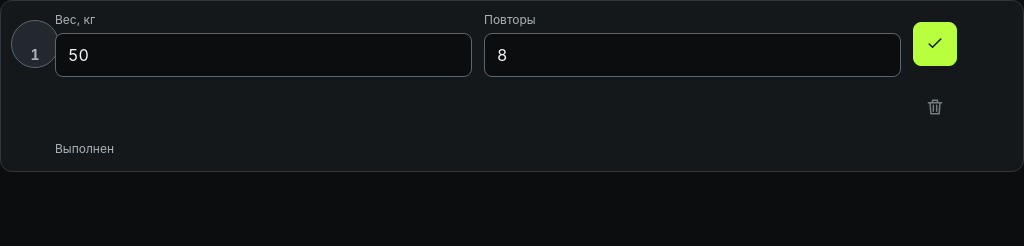
it: workout editing controls › rejects empty weight and fractional repetitions inline
Clear the field named "Вес, подход 1". click: (264,55)
box: [55,33,472,77]
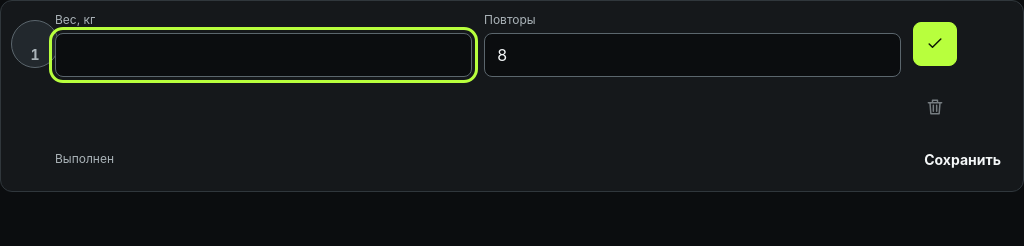
Click the button with aria-label "Сохранить подход 1". click: (963,159)
box: [912,137,1013,181]
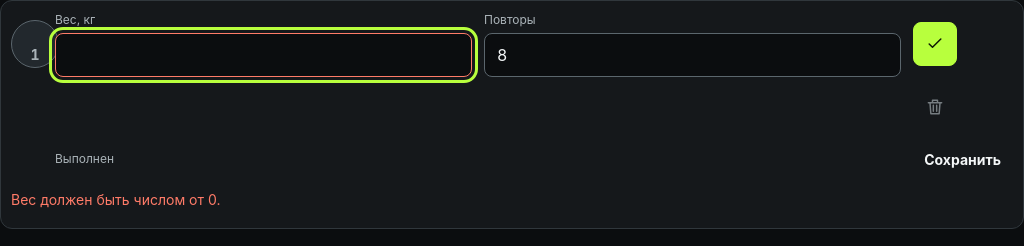
Expected: the message "Вес должен быть числом от 0." is shown, [11,191,220,208]
Type "0" into the field named "Вес, подход 1". click: (264,55)
box: [55,33,472,77]
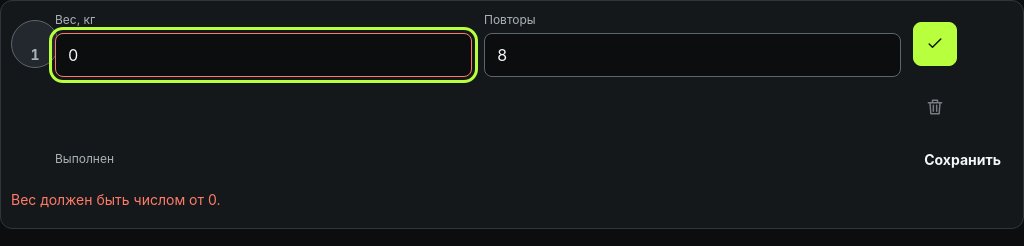
Replace the text in the field named "Повторы, подход 1" with "2.5". click: (692,55)
box: [484,33,901,77]
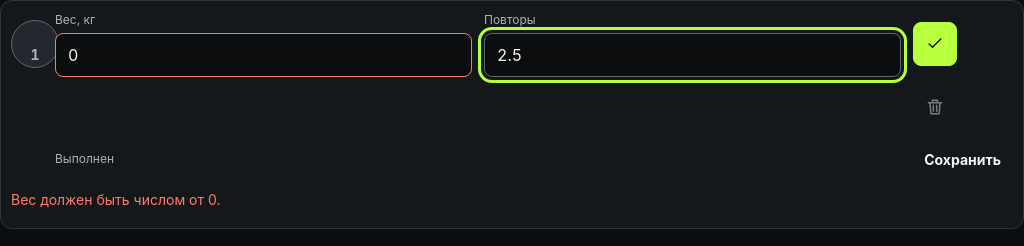
Click the button with aria-label "Сохранить подход 1". click: (963,159)
box: [912,137,1013,181]
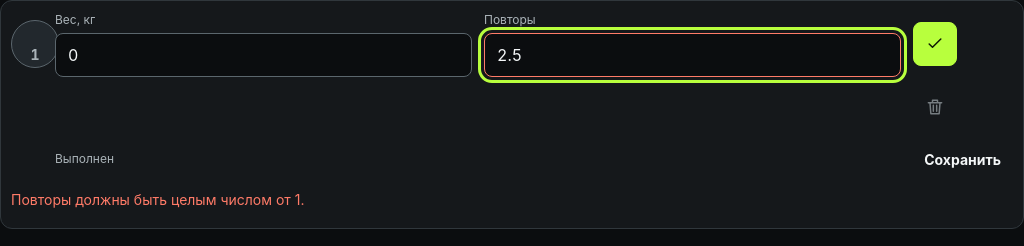
Expected: the message "Повторы должны быть целым числом от 1." is shown, [11,191,304,208]
